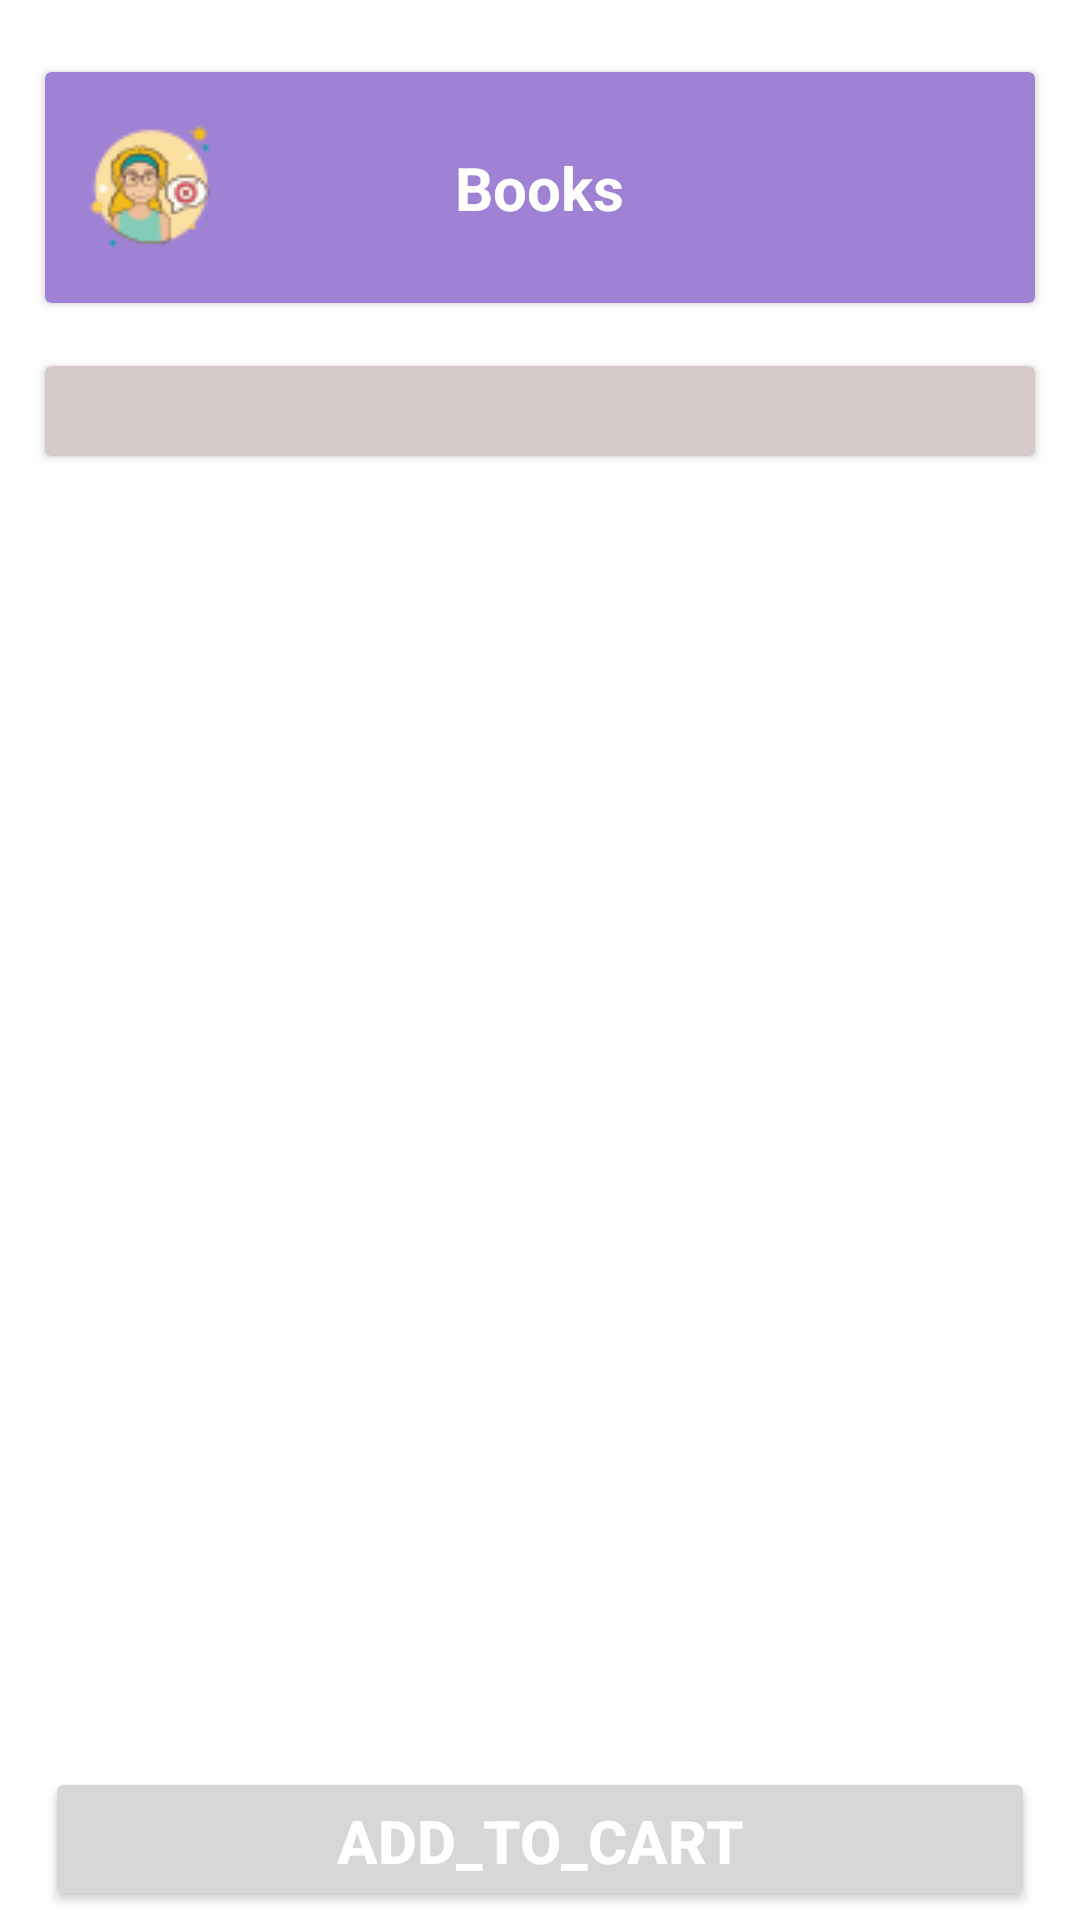

Named icons in this screenshot (1080*1920) and their bounding boxes, BBox(x1, y1, x2, y2):
character: BBox(90, 126, 210, 248)
